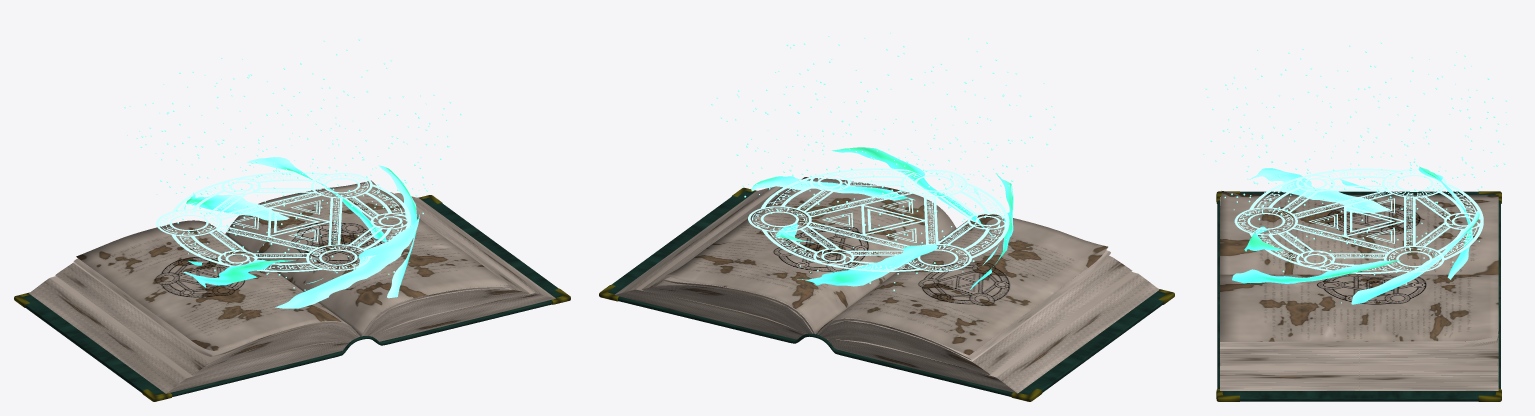
File: book.fbx
3 renders of one model, left to right at view 1: azimuth 30°, elevation 25°; view 2: azimuth 150°, elevation 25°; view 3: azimuth 270°, elevation 25°, orthographic. The views are drawn at different scales.
Parts seen in each view (by area): view 1: Paper.Right, Paper.Left, Magic Circle, Cube.003, Magic Storm, Cube.001, Cover, Cube.006, Cube.004, Cube.002, Magic Particle, Cover.Corner; view 2: Paper.Right, Paper.Left, Magic Circle, Cube.003, Cube.001, Cover, Magic Storm, Cube.006, Cube.004, Cube.002, Magic Particle, Cover.Corner (+1 smaller); view 3: Paper.Right, Paper.Left, Magic Circle, Cube.006, Cube.004, Magic Storm, Cover, Cube.005, Magic Particle, Cover.Corner.
Boxes of the visible parts, x1,y1,x2,y2 form: Paper.Right: (225, 180, 508, 336); Paper.Left: (76, 220, 359, 350); Magic Circle: (156, 172, 410, 272); Cube.003: (29, 276, 350, 393); Magic Storm: (182, 157, 419, 308); Cube.001: (55, 262, 357, 375); Cover: (22, 198, 562, 396); Cube.006: (371, 193, 555, 341); Cube.004: (364, 191, 529, 336); Cube.002: (73, 258, 360, 356); Magic Particle: (124, 39, 461, 290); Cover.Corner: (14, 195, 570, 401); Paper.Right: (666, 177, 956, 333); Paper.Left: (817, 214, 1107, 355); Magic Circle: (748, 168, 1009, 271); Cube.003: (826, 271, 1159, 393); Cube.001: (819, 255, 1132, 374); Cover: (608, 191, 1165, 396); Magic Storm: (751, 147, 1013, 289); Cube.006: (615, 186, 805, 339); Cube.004: (641, 187, 812, 333); Cube.002: (817, 250, 1110, 360); Magic Particle: (711, 32, 1055, 291); Cover.Corner: (599, 187, 1174, 401); Paper.Right: (1220, 274, 1498, 341); Paper.Left: (1220, 191, 1498, 274); Magic Circle: (1234, 168, 1483, 273); Cube.006: (1220, 366, 1498, 390); Cube.004: (1220, 334, 1498, 365); Magic Storm: (1232, 166, 1479, 304); Cover: (1217, 191, 1500, 401); Cube.005: (1220, 311, 1498, 347); Magic Particle: (1203, 42, 1507, 303); Cover.Corner: (1216, 191, 1501, 401).
Size of the model in its own units: 1965 by 1030 by 1272.
7 materials, 4 textured.
